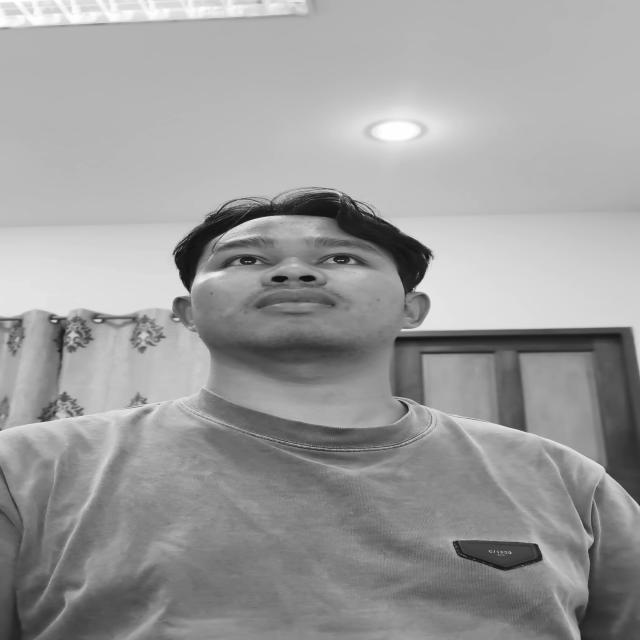ear: (402, 292, 430, 328), (172, 296, 196, 332)
